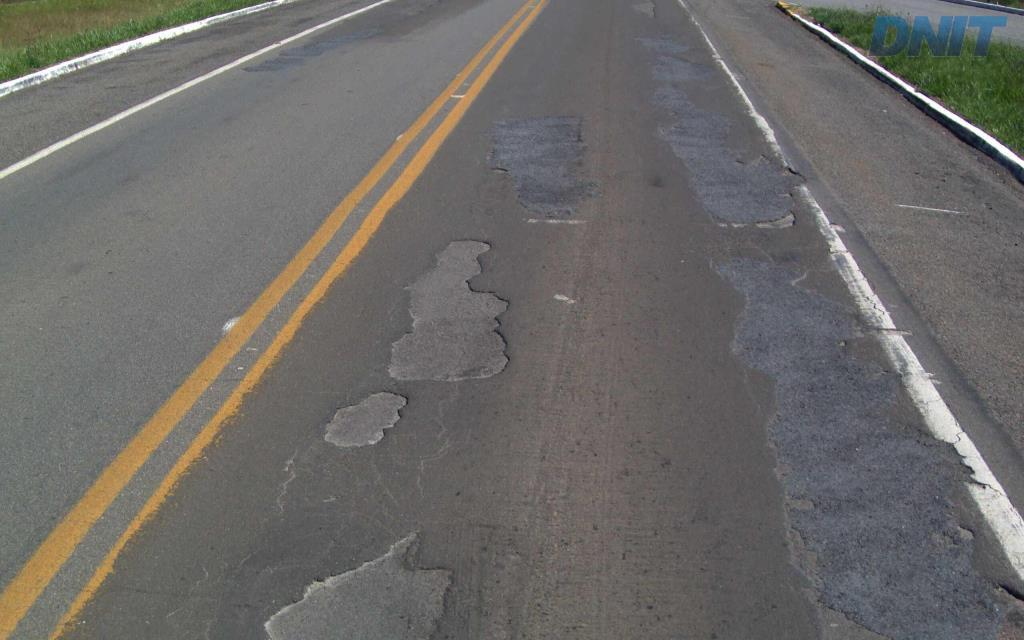pothole: (256, 524, 456, 638), (383, 233, 520, 386), (311, 381, 413, 449), (981, 581, 1022, 610), (749, 207, 798, 230), (485, 162, 508, 175)
